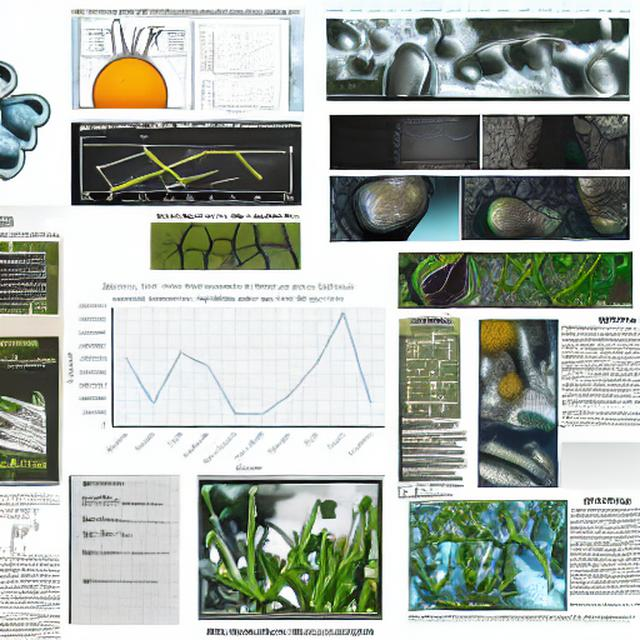Graph: (65, 279, 391, 472), (392, 117, 480, 170), (201, 72, 276, 116)
